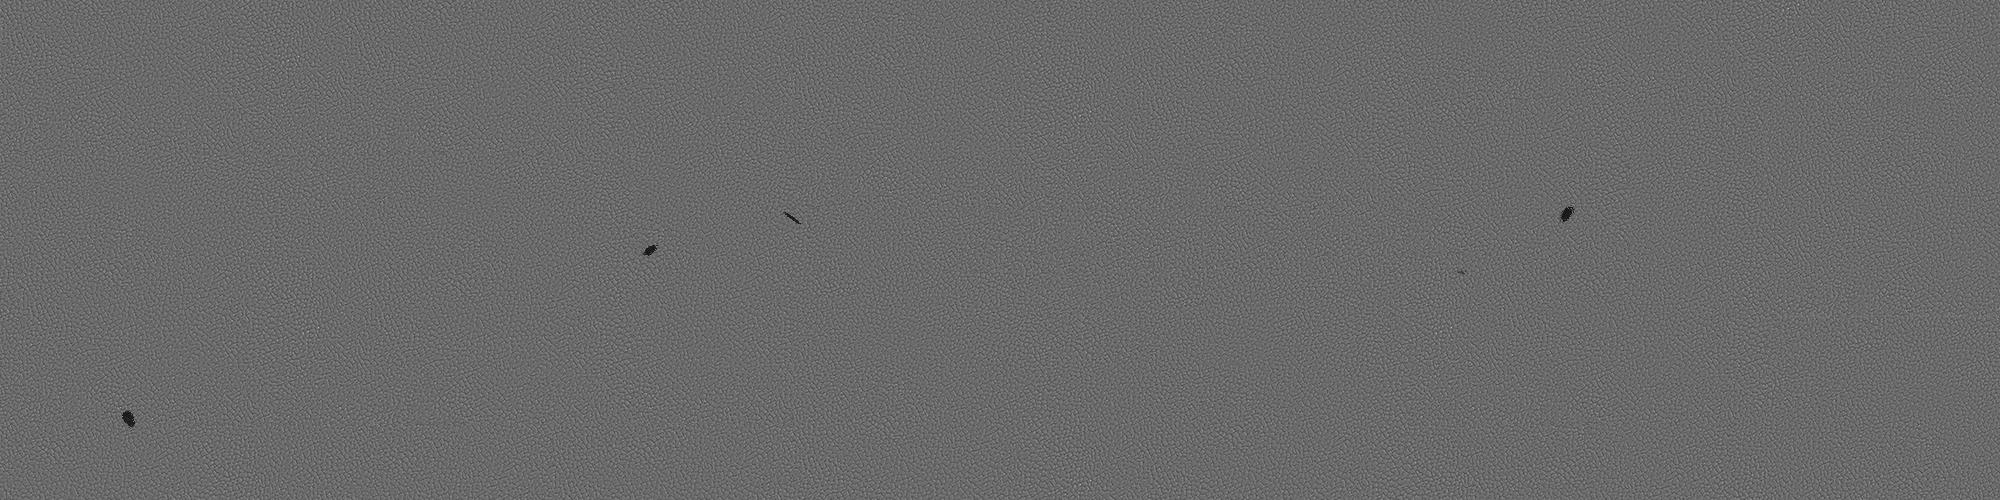Decomposed: (1547, 196, 1587, 227), (772, 199, 807, 232), (117, 406, 145, 437), (636, 244, 670, 259)
